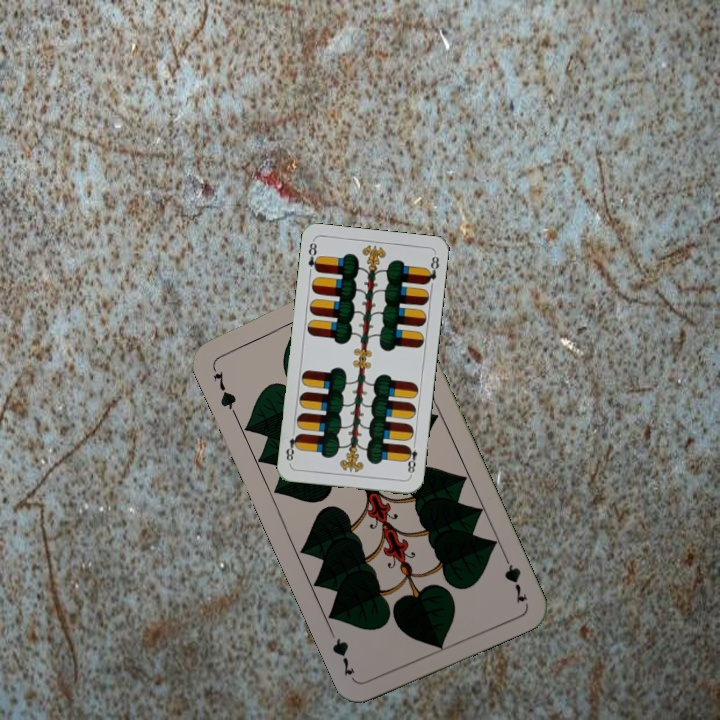E8: (402, 438, 420, 478), (304, 237, 322, 275)
G7: (498, 548, 530, 606), (207, 361, 239, 417)
